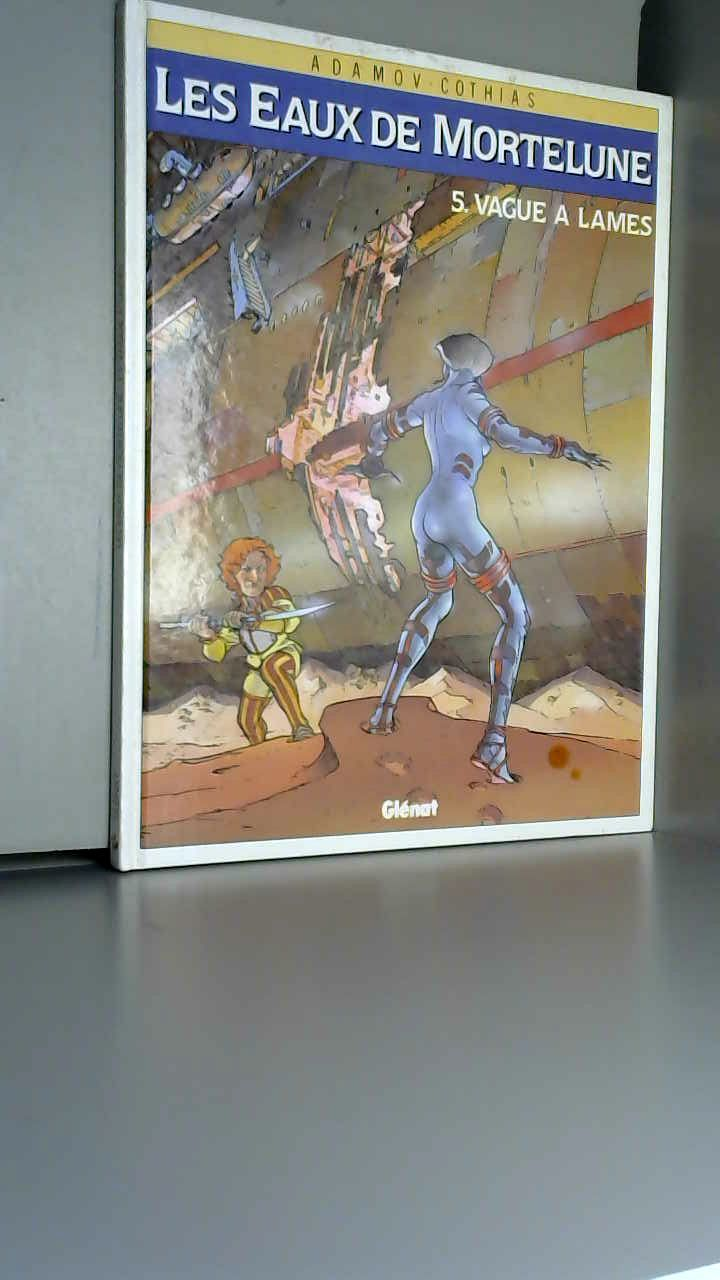book: (80, 0, 720, 940)
